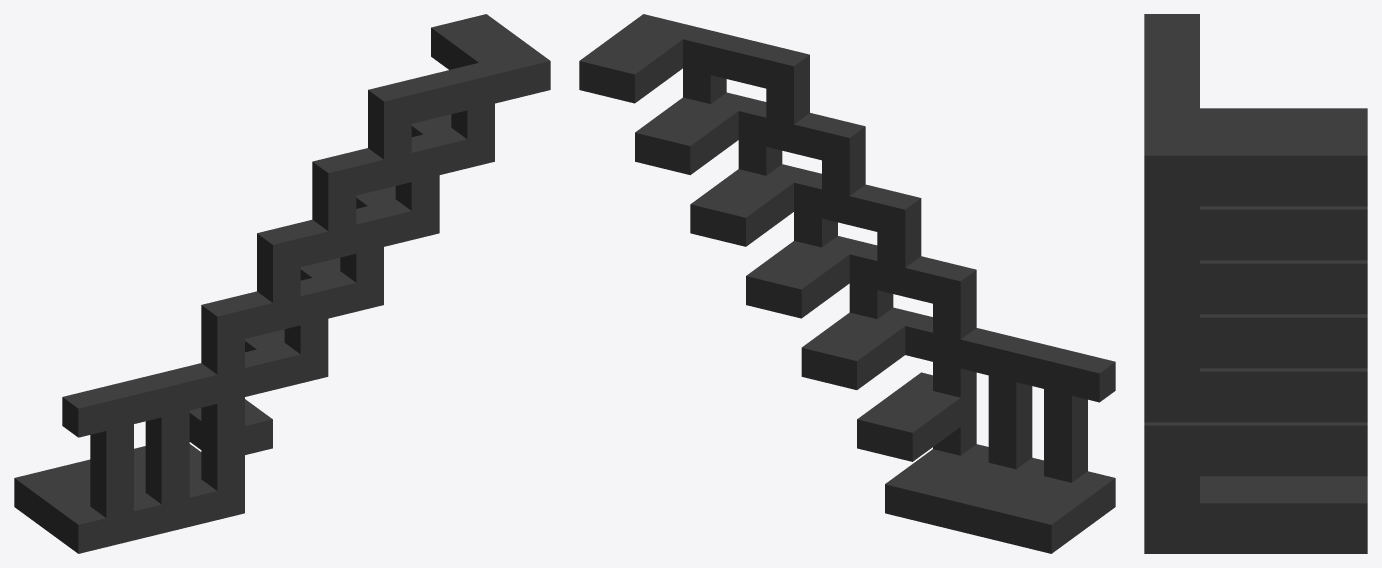
The model's file is palazzo22.glb.
3 views of the same model, side by side, from view 1: azimuth 30°, elevation 25°; view 2: azimuth 150°, elevation 25°; view 3: azimuth 270°, elevation 25° (orthographic). The views are drawn at different scales.
Parts seen in each view (by area): view 1: Scale.Dx; view 2: Scale.Dx; view 3: Scale.Dx.
Boxes of the visible parts, <box> form: Scale.Dx: <box>14,14,550,553</box>; Scale.Dx: <box>579,14,1115,553</box>; Scale.Dx: <box>1144,14,1367,553</box>.
Bounding box in the file's own units: 17 × 13 × 4.
Materials: 1 (1 with a texture image).
